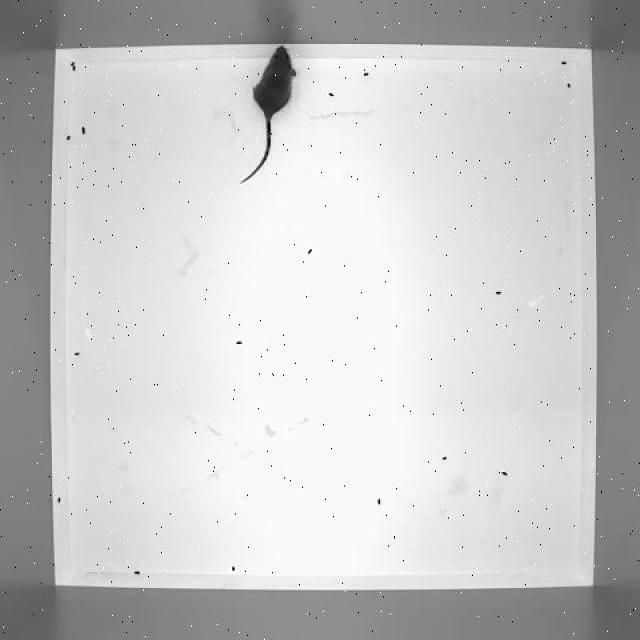rat: (240, 43, 300, 184)
